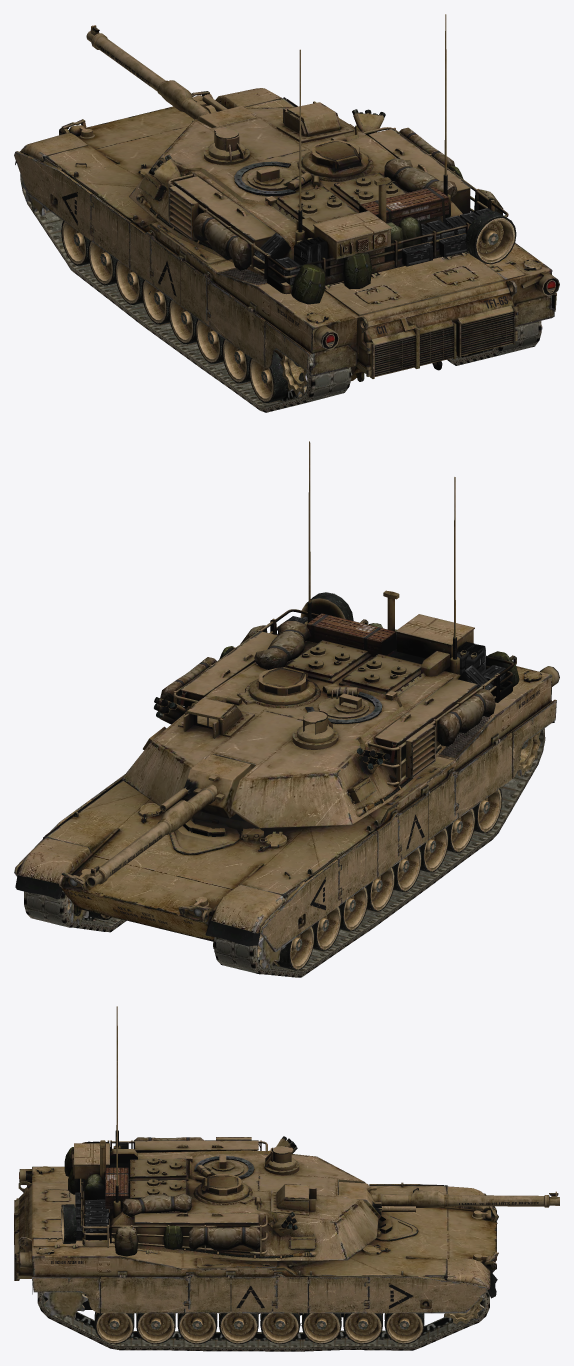
File: shockwave-vehicle.glb
The picture shows the model from 3 angles, top to bottom: view 1: azimuth 30°, elevation 25°; view 2: azimuth 150°, elevation 25°; view 3: azimuth 270°, elevation 25°; orthographic projection. The views are drawn at different scales.
Visible parts, largest first — view 1: Object_5, Object_9, Object_3, Object_8, Object_10, Object_6, Object_2, Object_14, Object_13, Object_15, Object_4, Object_7 (+2 smaller); view 2: Object_6, Object_5, Object_9, Object_3, Object_8, Object_10, Object_2, Object_4, Object_15, Object_14, Object_13, Object_7 (+2 smaller); view 3: Object_3, Object_9, Object_6, Object_5, Object_12, Object_8, Object_2, Object_10, Object_15, Object_4, Object_7, Object_13 (+1 smaller).
Part boxes in pixels (x1,y1,x2,y2): Object_5: (136,49,494,294); Object_9: (52,91,559,381); Object_3: (14,99,556,376); Object_8: (139,124,503,304); Object_10: (43,98,551,381); Object_6: (129,101,492,276); Object_2: (20,154,541,412); Object_14: (47,209,352,397); Object_13: (21,181,516,402); Object_15: (86,25,360,168); Object_4: (20,88,525,323); Object_7: (253,14,508,283); Object_6: (121,621,496,828); Object_5: (180,477,512,816); Object_9: (43,619,559,948); Object_3: (14,699,556,952); Object_8: (143,613,519,803); Object_10: (45,674,552,925); Object_2: (24,728,545,977); Object_4: (17,672,541,933); Object_15: (86,666,307,887); Object_14: (258,738,531,970); Object_13: (67,592,541,969); Object_7: (154,441,513,785); Object_3: (31,1184,497,1313); Object_9: (14,1166,498,1317); Object_6: (80,1136,378,1260); Object_5: (71,1006,316,1251); Object_12: (43,1292,484,1343); Object_8: (64,1137,315,1256); Object_2: (37,1277,489,1351); Object_10: (14,1167,498,1305); Object_15: (202,1175,559,1219); Object_4: (33,1166,490,1289); Object_7: (80,1061,316,1256); Object_13: (61,1204,484,1319).
Size of what is drawn, in the model's own units: 380 by 495 by 896.
9 materials, 8 textured.
